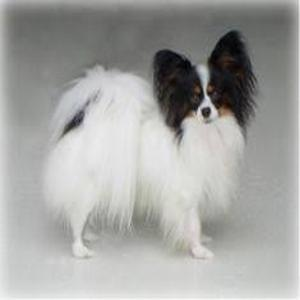yell: (40, 30, 255, 260)
